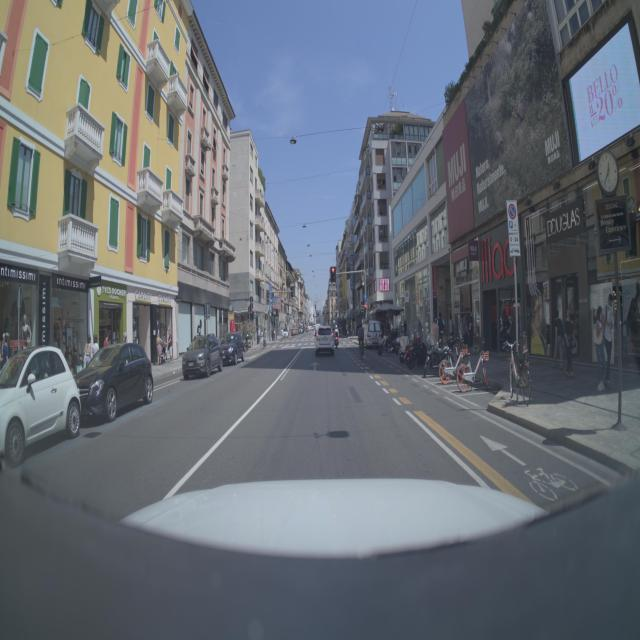red_light: (323, 262, 346, 290)
